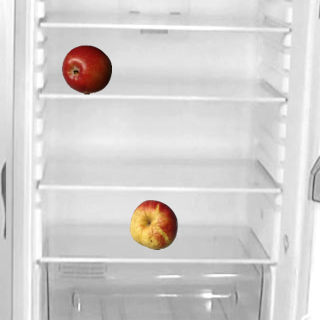Apple Braeburn: (61, 44, 111, 94)
Apple Red Yellow 1: (128, 199, 178, 249)
